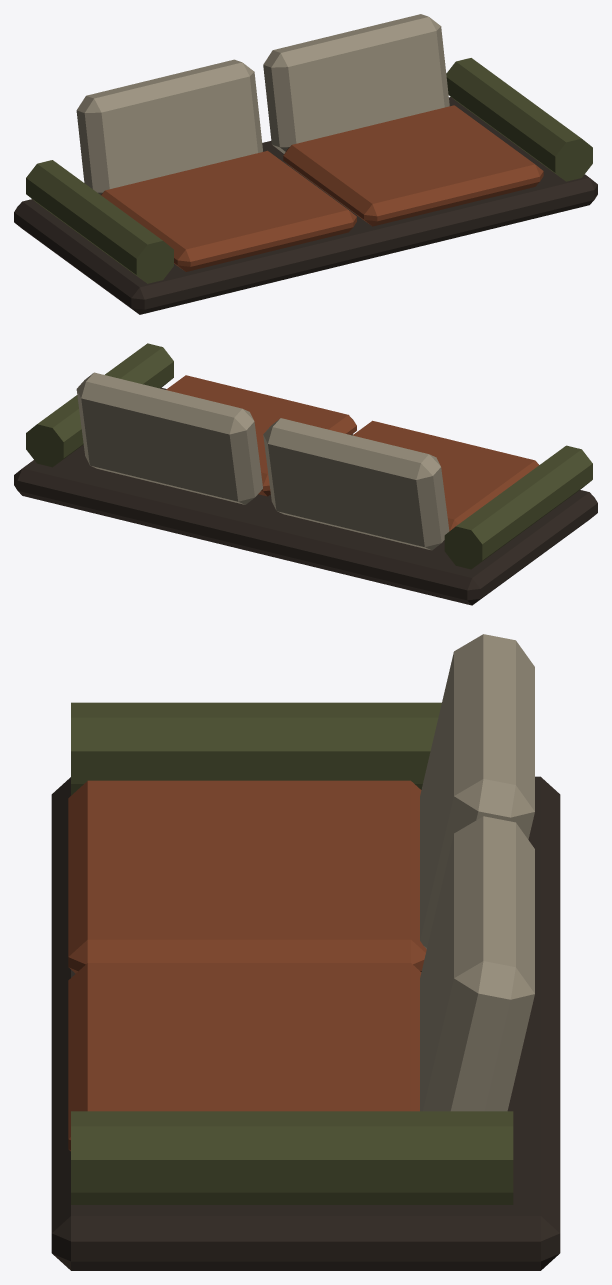
3 renders of one model, top to bottom at view 1: azimuth 30°, elevation 25°; view 2: azimuth 150°, elevation 25°; view 3: azimuth 270°, elevation 25°, orthographic. The views are drawn at different scales.
Visible parts, largest first — view 1: furniture_8_sofa_rare_floorcushion; view 2: furniture_8_sofa_rare_floorcushion; view 3: furniture_8_sofa_rare_floorcushion.
Boxes of the visible parts, x1,y1,x2,y2 form: furniture_8_sofa_rare_floorcushion: [14, 14, 597, 314]; furniture_8_sofa_rare_floorcushion: [14, 343, 597, 605]; furniture_8_sofa_rare_floorcushion: [51, 634, 560, 1270].
Bounding box in the file's own units: 3.85 × 1 × 1.81.
